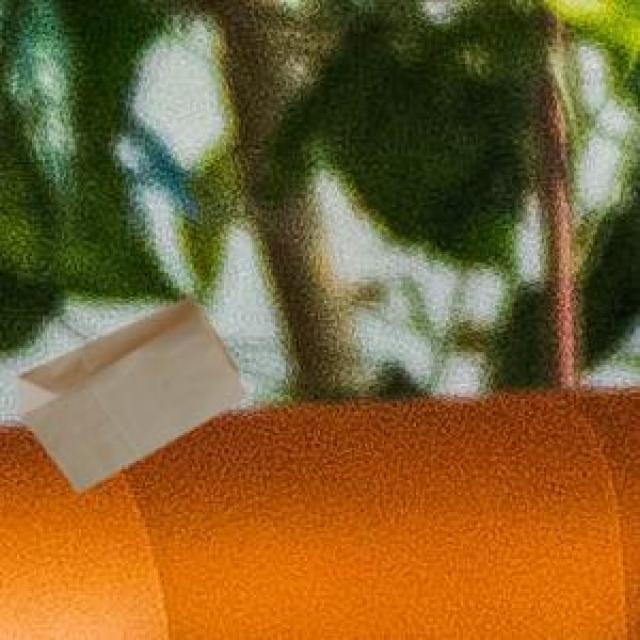paper: (15, 292, 243, 489)
